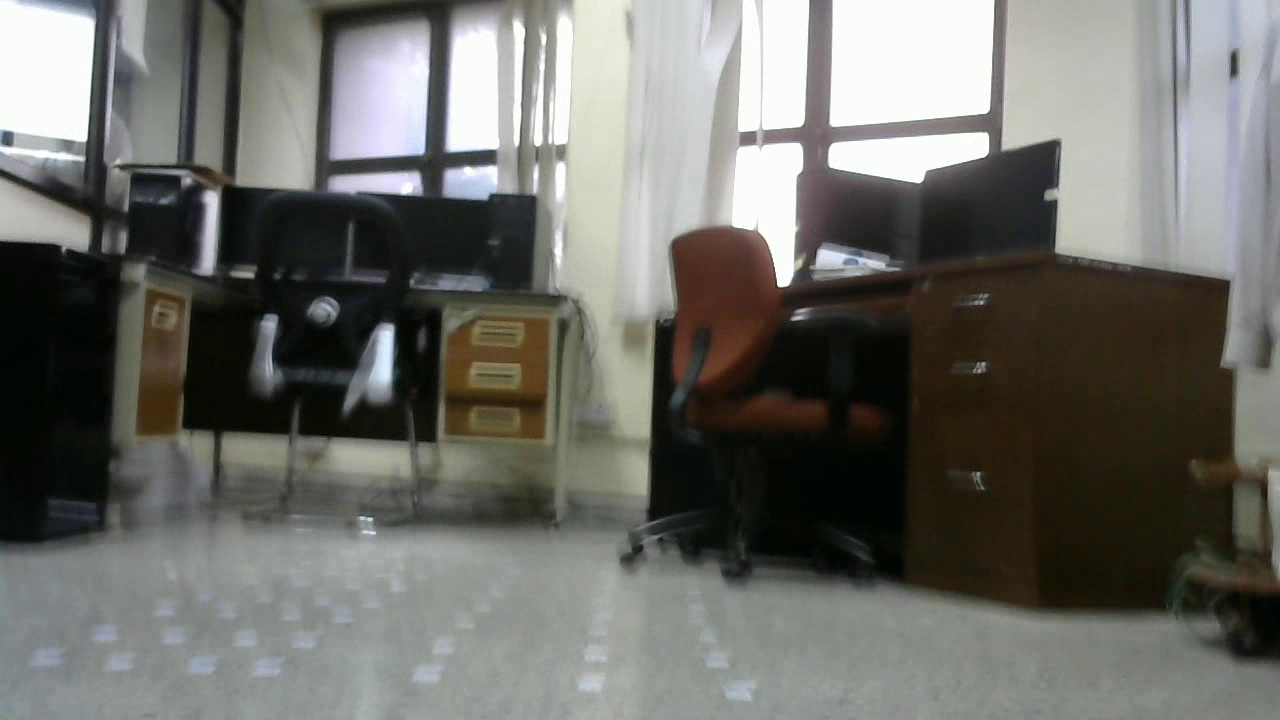chair: (615, 226, 893, 587), (231, 182, 444, 535)
